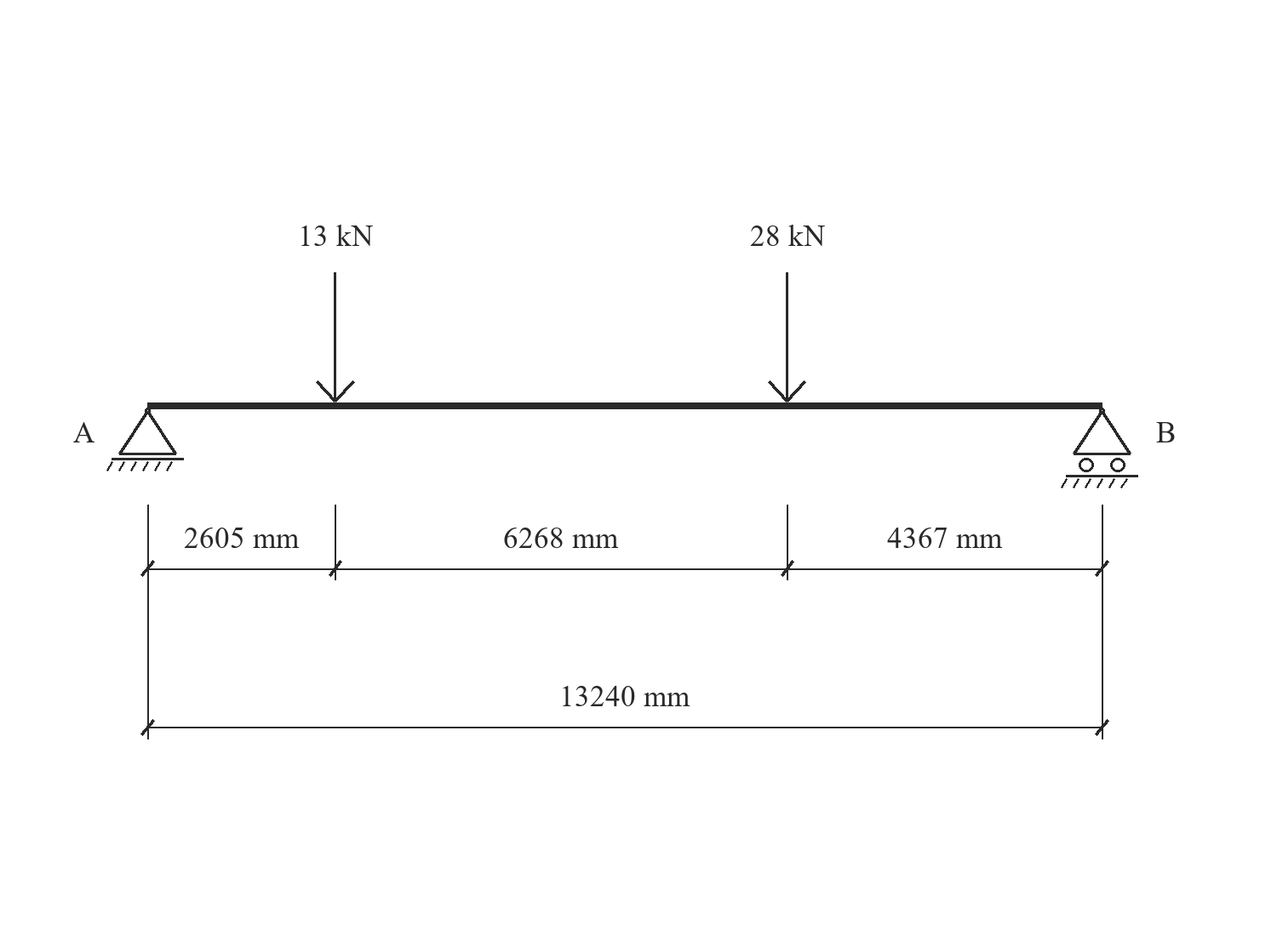pin_support: (106, 408, 184, 471)
point_load: (316, 272, 355, 402), (768, 272, 806, 402)
roller_support: (1061, 408, 1138, 488)
